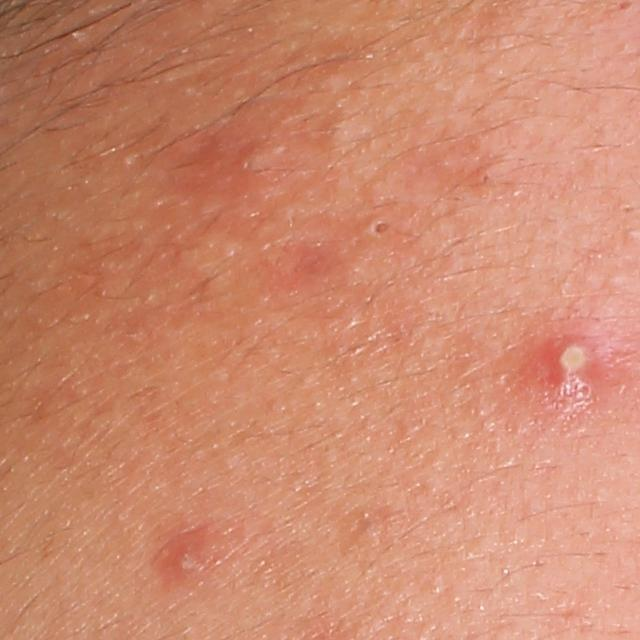comedo: (233, 138, 286, 191), (320, 113, 361, 145), (362, 214, 397, 241), (122, 147, 136, 168)
papule: (147, 525, 208, 587)
pustule: (521, 316, 629, 403)
